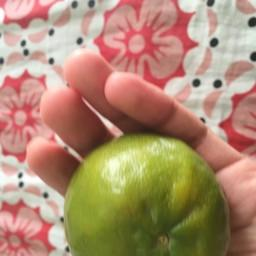Good_orange: (61, 150, 237, 256)
